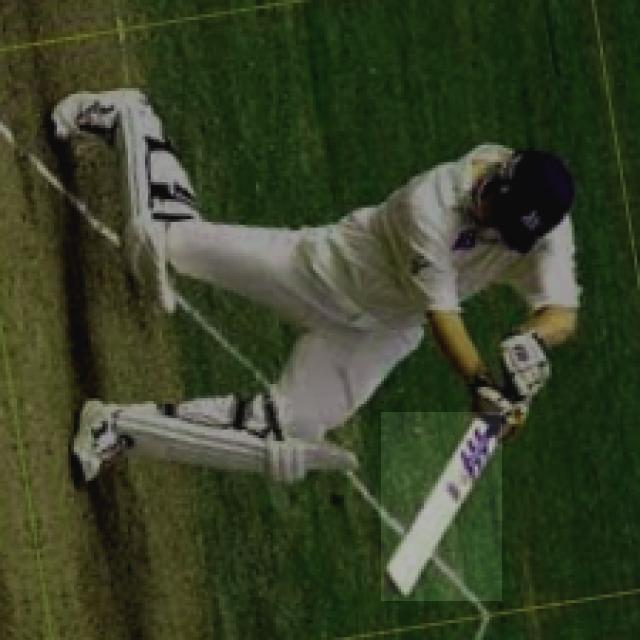bat: (380, 413, 510, 599)
toe: (374, 565, 409, 600)
